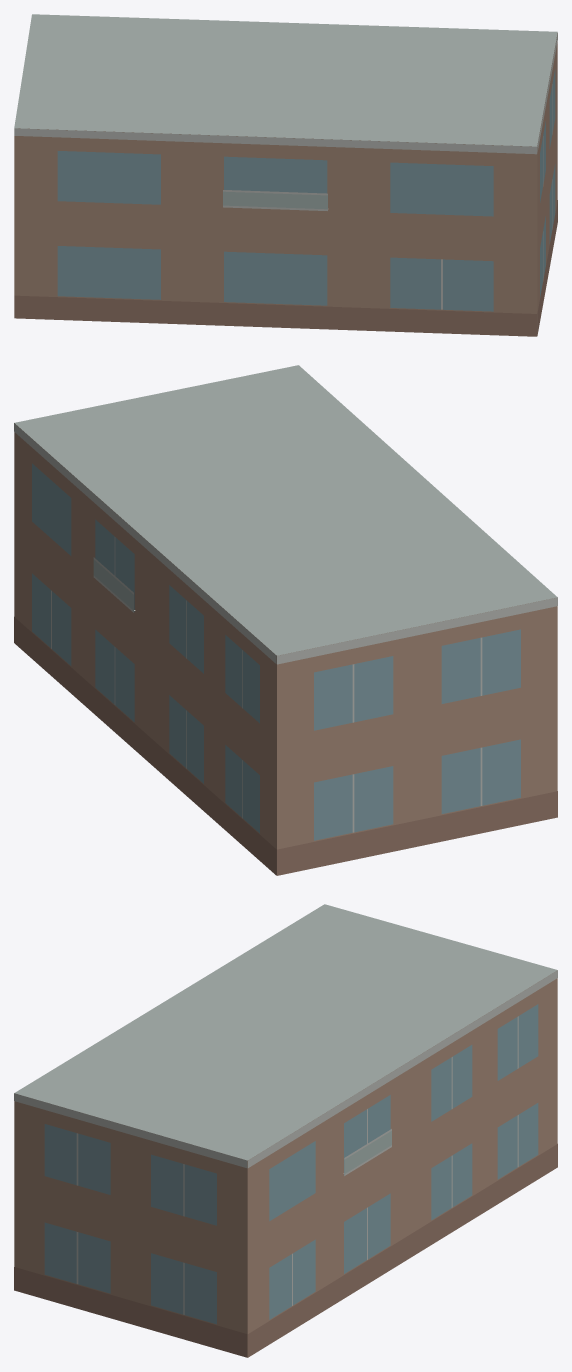
File: survey-upis-32707460.glb
3 renders of one model, top to bottom at view 1: azimuth 30°, elevation 25°; view 2: azimuth 150°, elevation 25°; view 3: azimuth 270°, elevation 25°, orthographic. The views are drawn at different scales.
Parts seen in each view (by area): view 1: survey-upis-32707460.tmp; view 2: survey-upis-32707460.tmp; view 3: survey-upis-32707460.tmp.
Boxes of the visible parts, box(x1,y1,x2,y2) form: survey-upis-32707460.tmp: box(14, 14, 557, 336); survey-upis-32707460.tmp: box(14, 365, 557, 875); survey-upis-32707460.tmp: box(14, 904, 557, 1357).
Bounding box in the file's own units: 17.02 × 6.1 × 15.25.
